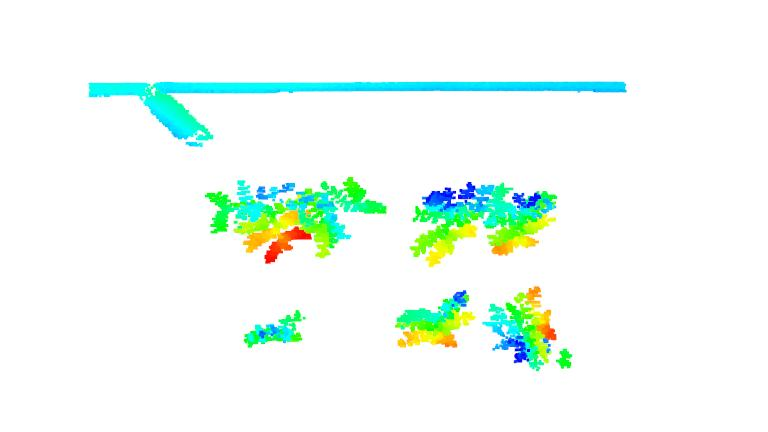chickpea: (204, 175, 312, 264), (408, 178, 496, 267), (485, 284, 572, 371), (301, 174, 387, 257), (484, 181, 560, 258), (392, 289, 475, 351), (240, 309, 311, 353)
